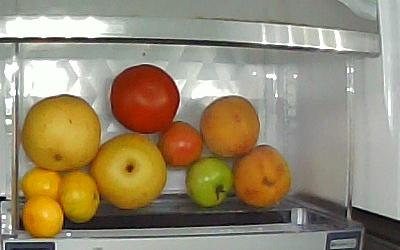peach: (200, 96, 263, 159), (233, 145, 292, 207)
pear: (21, 95, 101, 172), (91, 134, 166, 209)
tangerine: (62, 172, 100, 221), (23, 198, 63, 237), (20, 168, 62, 198)
tomato: (110, 64, 181, 134), (187, 157, 235, 207), (159, 121, 203, 169)
